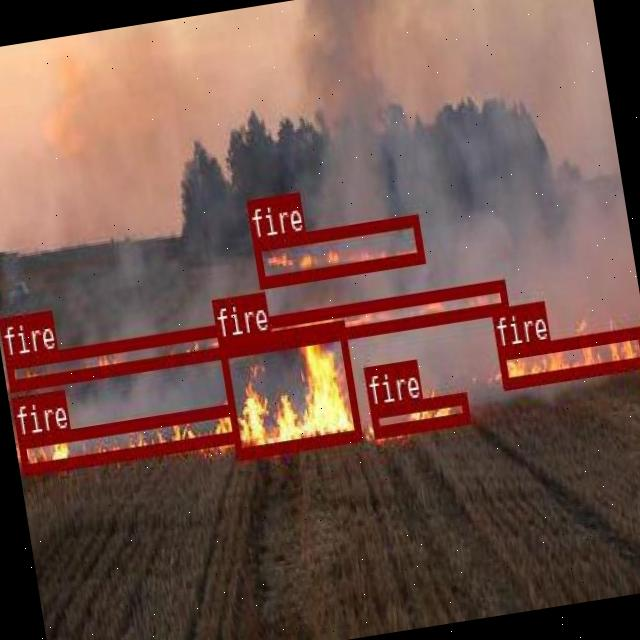fire: (3, 279, 508, 389), (218, 318, 362, 456), (16, 404, 240, 476), (252, 213, 423, 286), (496, 323, 640, 386), (369, 391, 469, 437)
